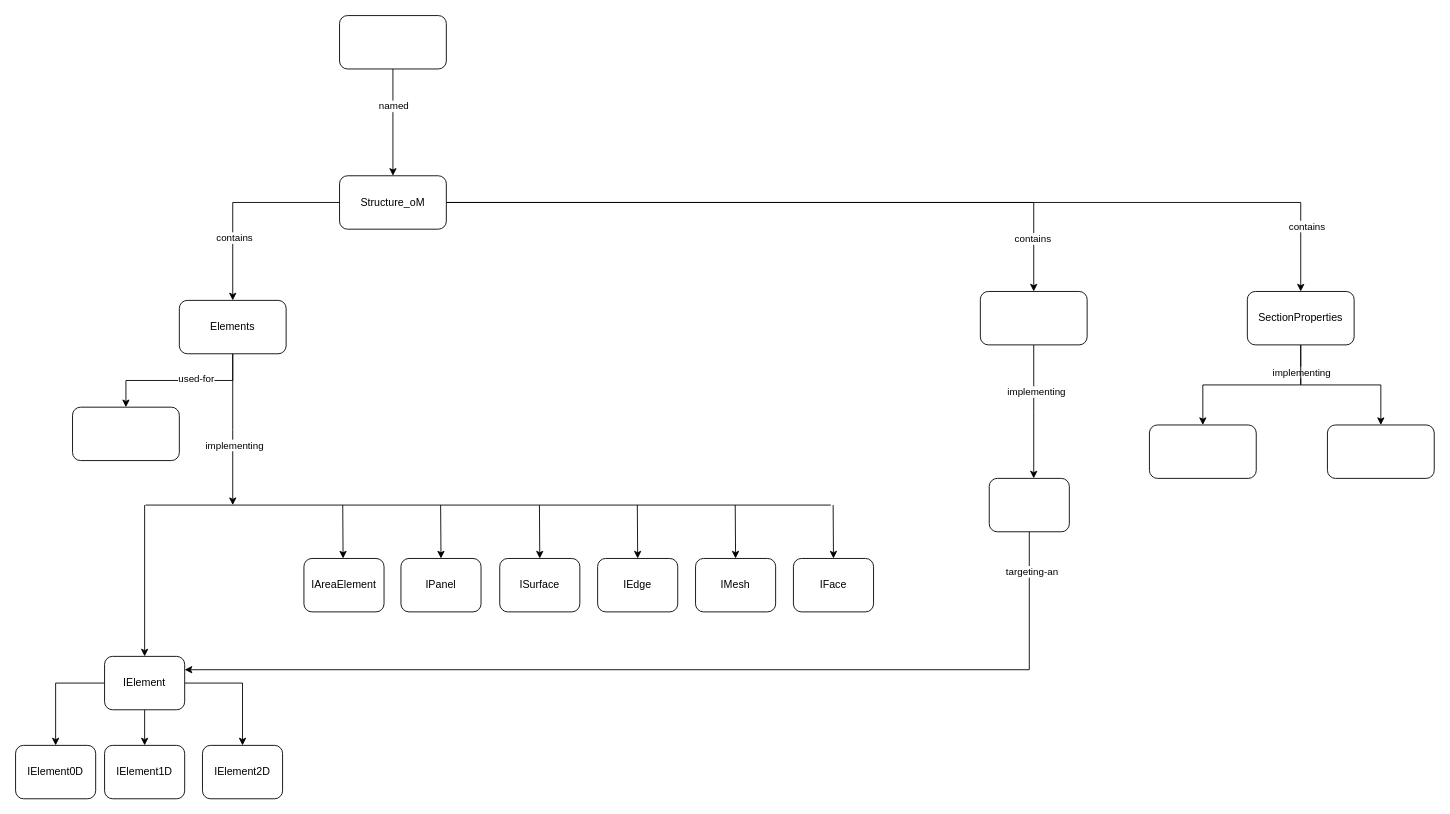
This 1450x814 diagram has some shape labels left out. The centre of each missing label's shape, as x and y in pixels:
IElementLoad: the point at 1028,504
IGeometricalSection: the point at 1202,451
ISectionProperty: the point at 1380,451
Loads: the point at 1033,318
Namespace: the point at 392,42
Structural Analysis: the point at 125,433
